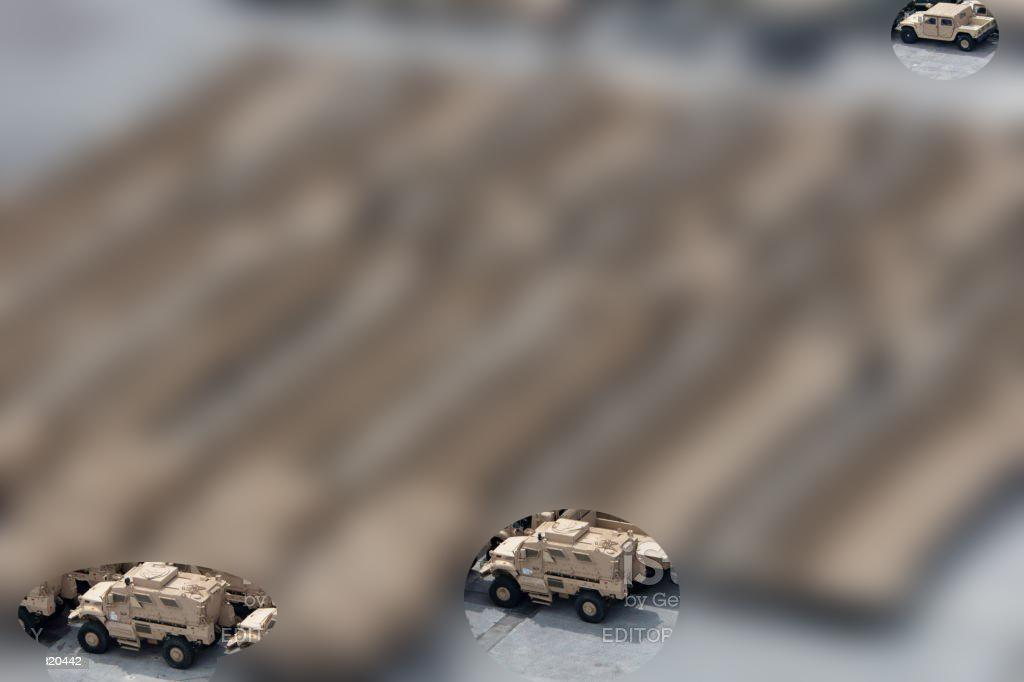armored_car: (61, 562, 240, 672), (477, 509, 649, 621), (892, 0, 997, 52)
